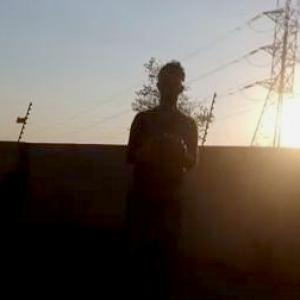follow: (105, 55, 199, 299)
